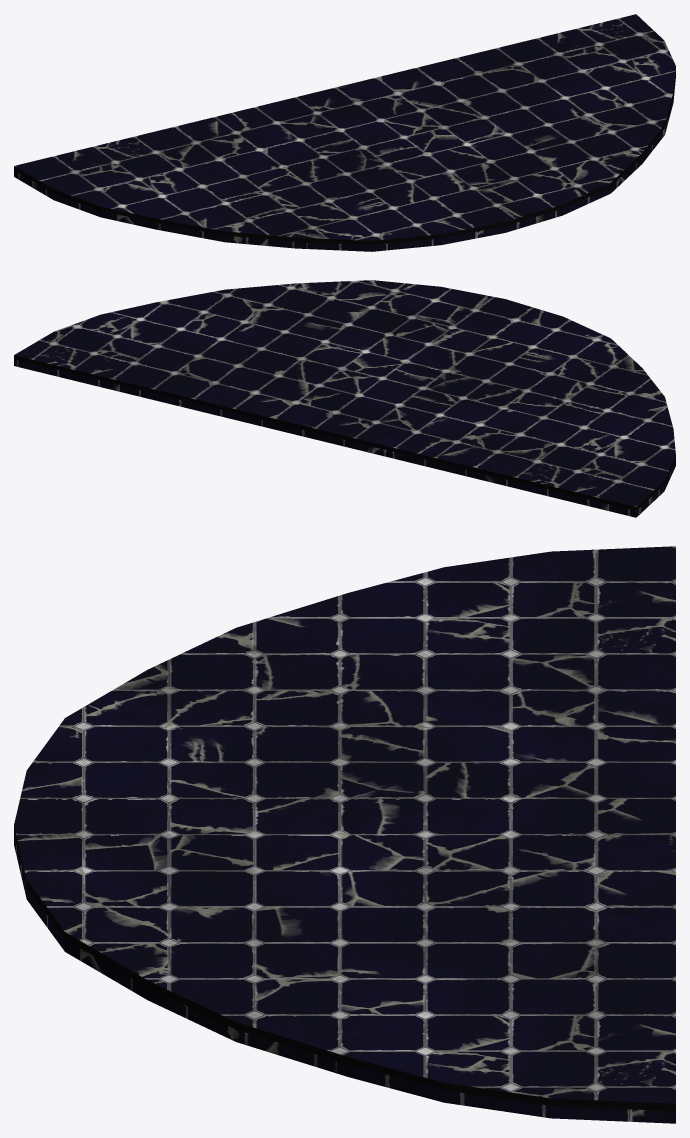
Rendered from deg3.fbx.
The picture shows the model from 3 angles, top to bottom: view 1: azimuth 30°, elevation 25°; view 2: azimuth 150°, elevation 25°; view 3: azimuth 270°, elevation 25°; orthographic projection. The views are drawn at different scales.
Parts seen in each view (by area): view 1: Cylinder.001; view 2: Cylinder.001; view 3: Cylinder.001.
Part boxes in pixels (x1,y1,x2,y2): Cylinder.001: (14,14,675,251); Cylinder.001: (14,280,675,517); Cylinder.001: (14,546,675,1123).
Bounding box in the file's own units: 1197 × 20.06 × 601.
